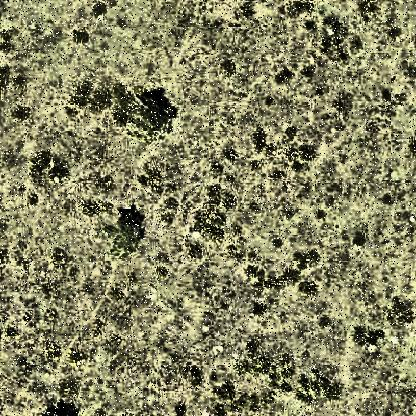tree-top: (121, 97, 177, 139), (112, 207, 148, 259)
